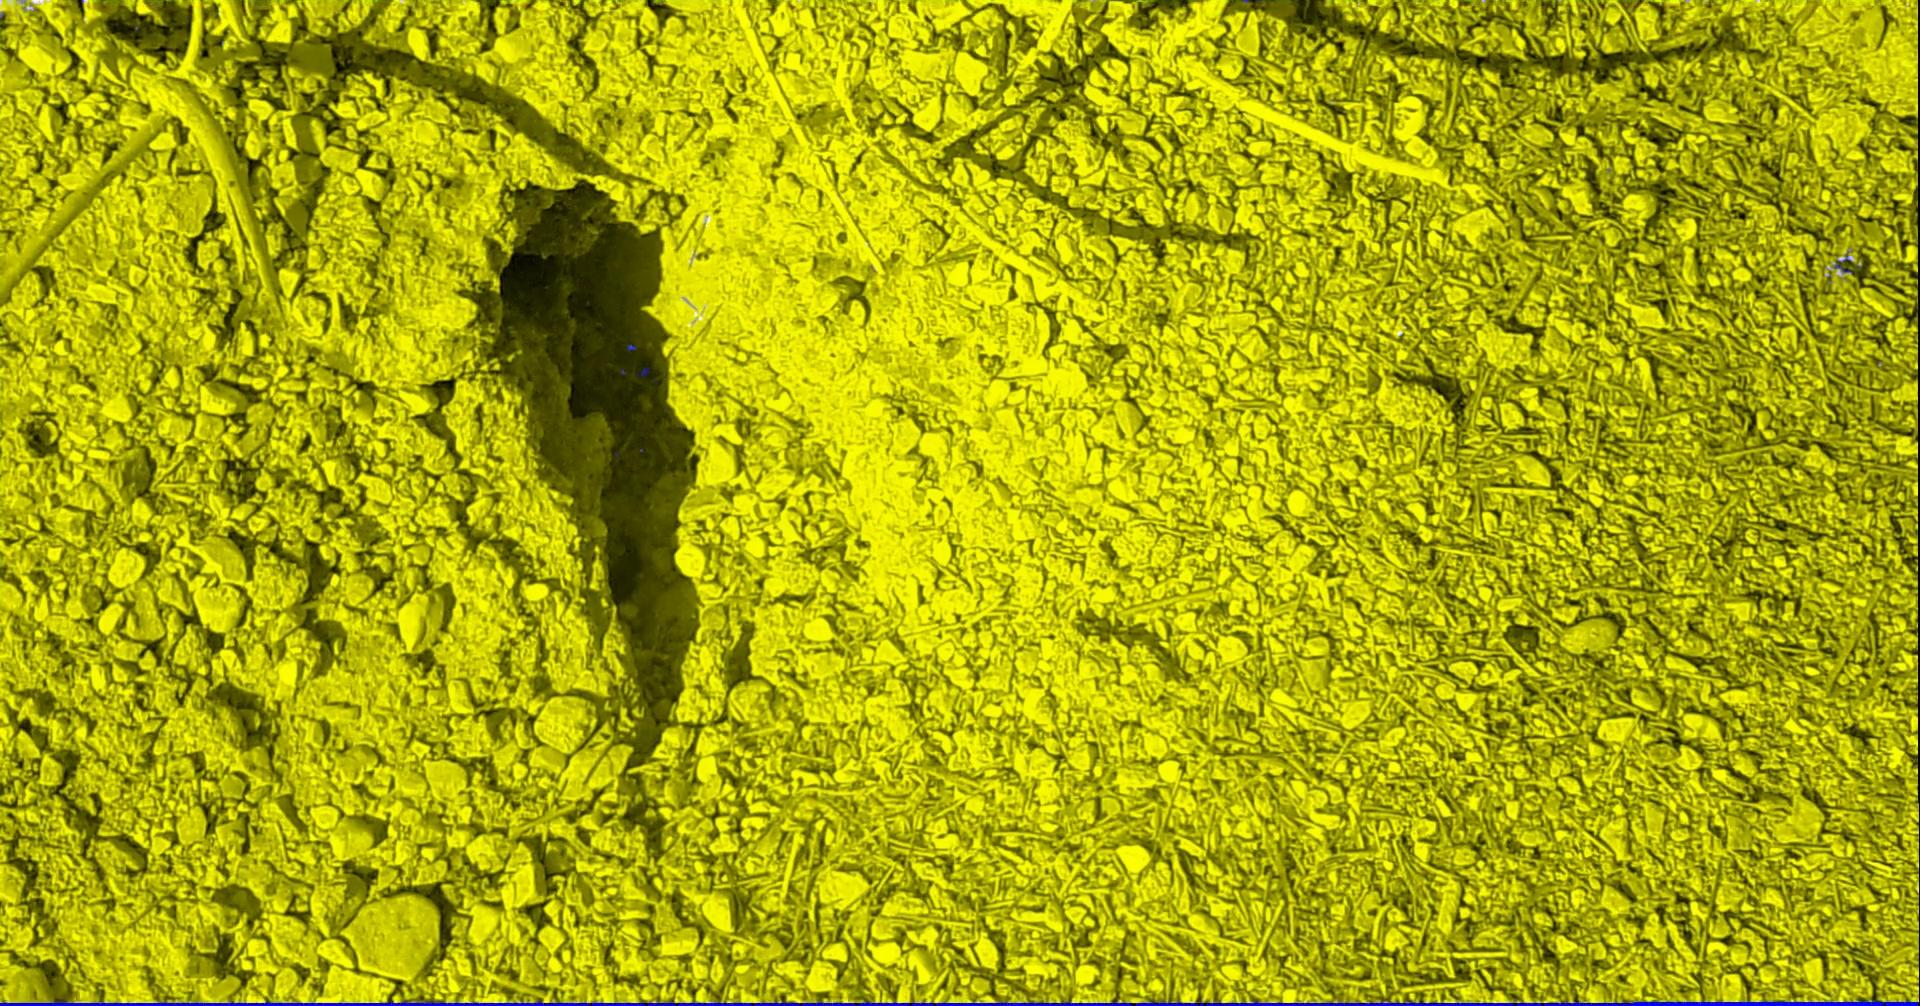ant: (1832, 255, 1853, 273)
